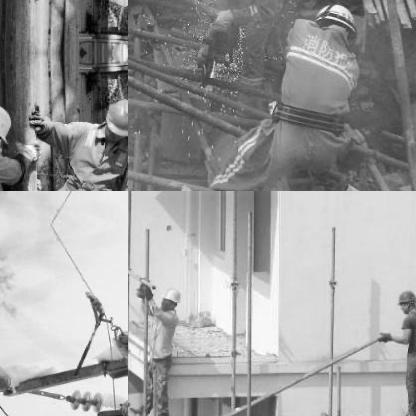Helmet: (312, 1, 354, 43), (102, 95, 127, 142), (156, 284, 182, 312), (0, 100, 12, 146), (395, 289, 415, 314), (101, 0, 127, 9)
